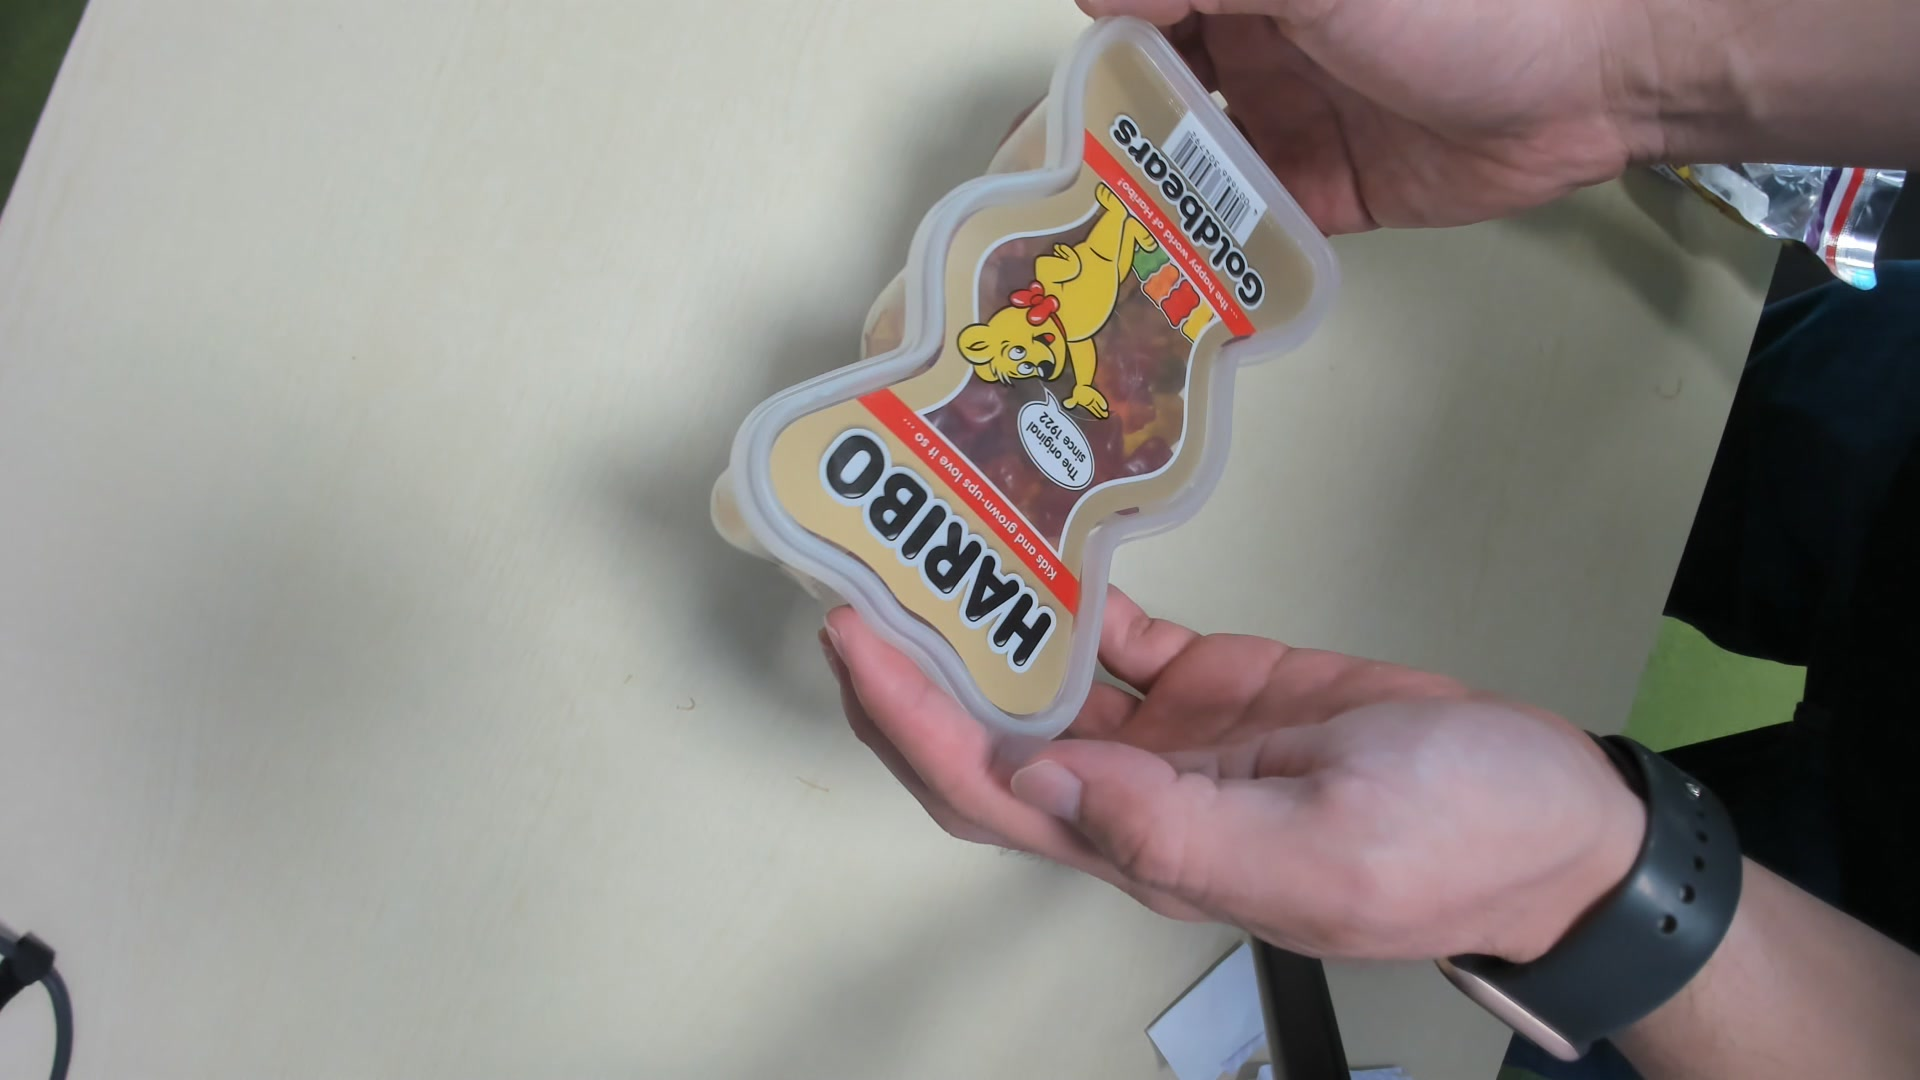SweetsChocolatesOthers_400-499g_NonHalal_Nonhealthy: (699, 15, 1346, 746)
